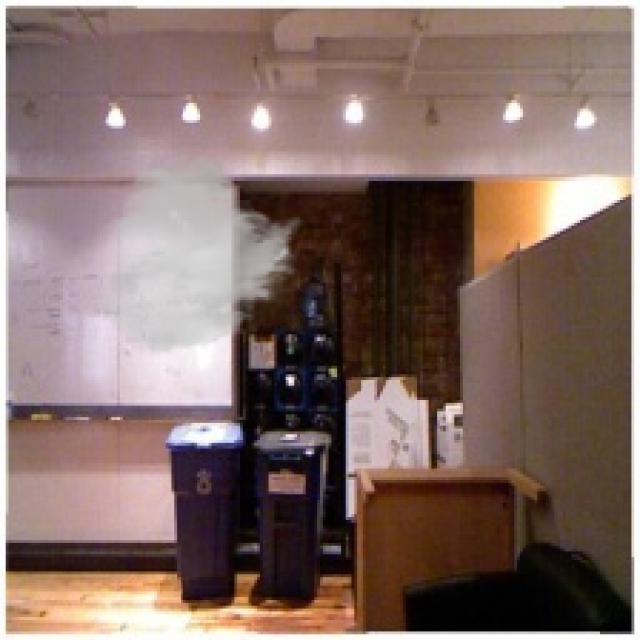Smoke: (94, 152, 306, 358)
